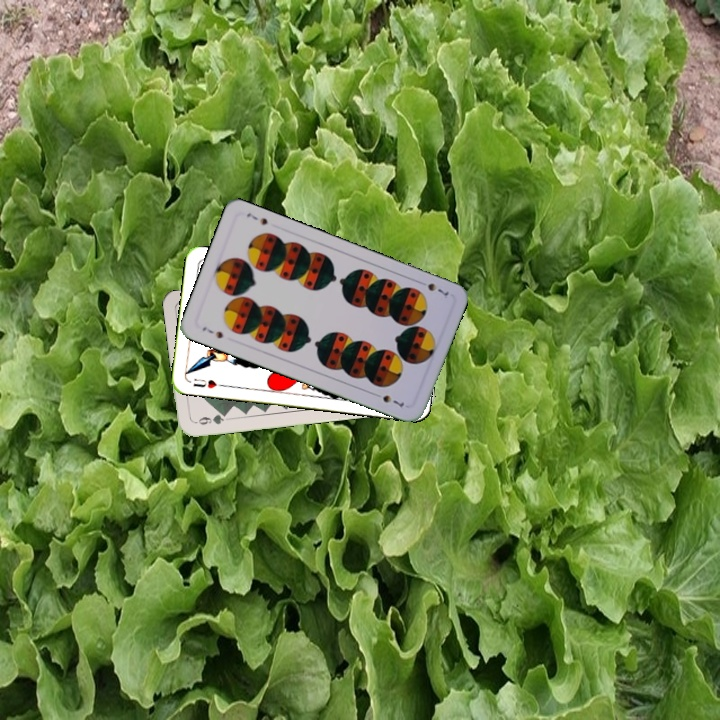G9: (191, 409, 230, 427)
HU: (189, 374, 226, 391)
S7: (414, 277, 451, 298), (198, 323, 225, 341)
